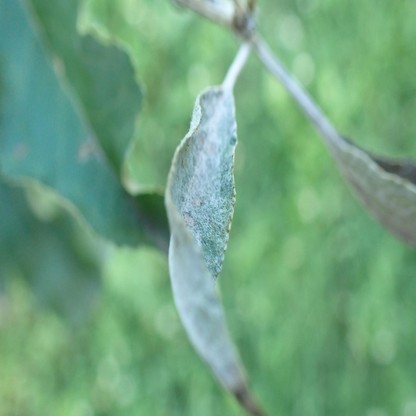powder: (164, 86, 266, 416)
